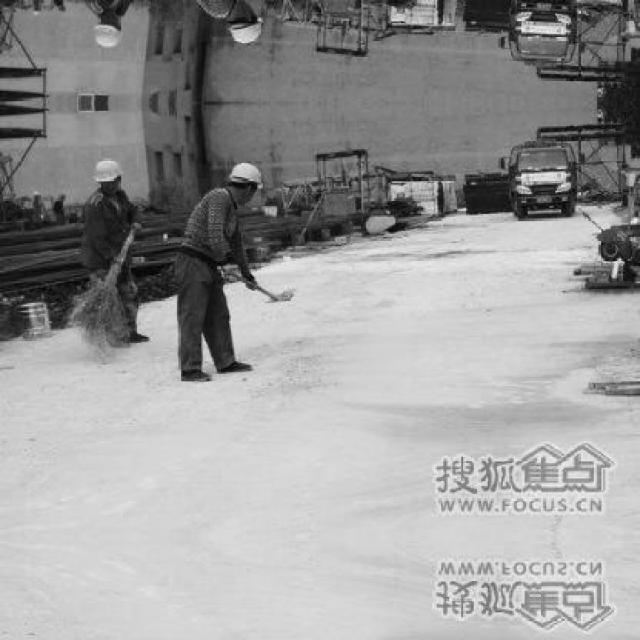hat: (226, 2, 264, 47), (226, 159, 264, 203), (92, 155, 125, 194), (92, 11, 125, 50)
